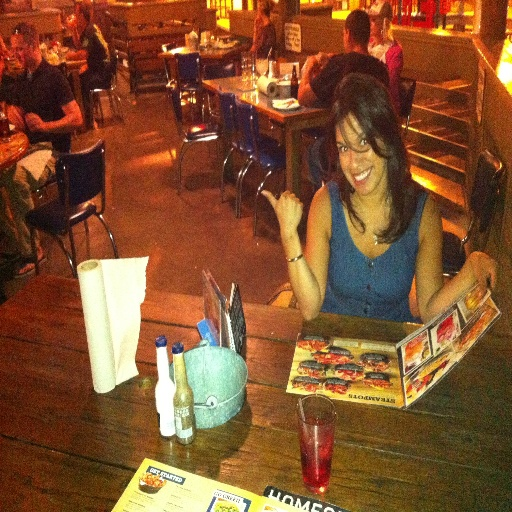hand: (262, 185, 312, 252), (468, 249, 502, 293), (4, 105, 24, 130), (24, 112, 46, 134), (306, 53, 321, 74), (66, 13, 77, 30)
